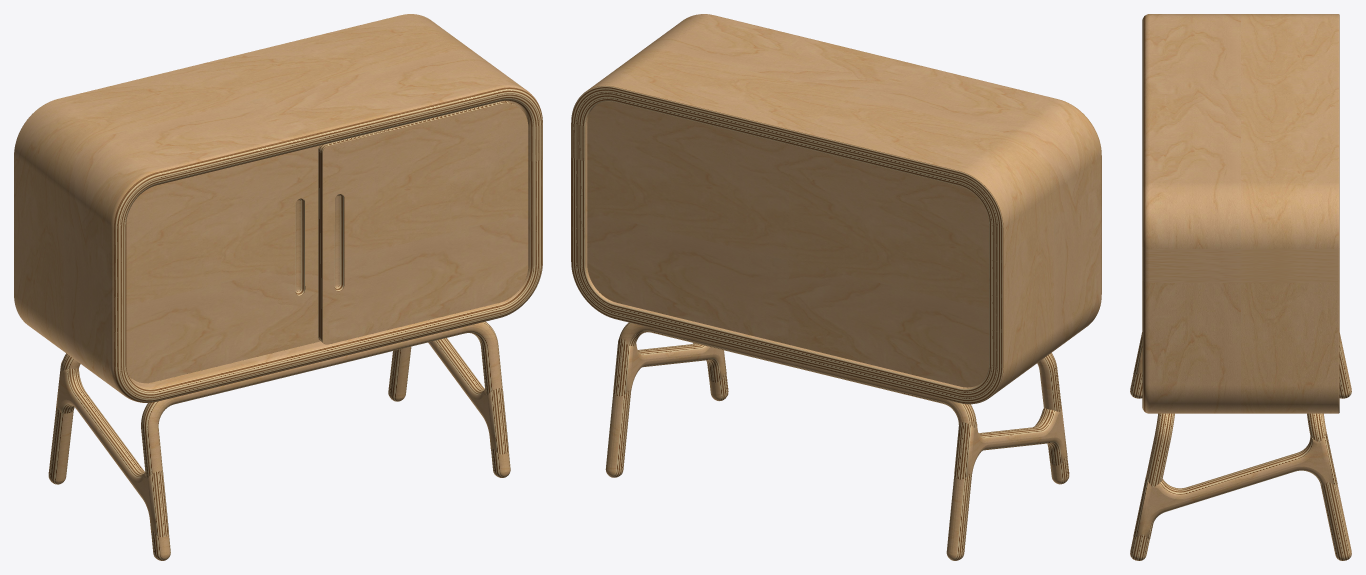
File: console.glb
3 views of the same model, side by side, from view 1: azimuth 30°, elevation 25°; view 2: azimuth 150°, elevation 25°; view 3: azimuth 270°, elevation 25° (orthographic). The views are drawn at different scales.
Visible parts, largest first — view 1: Console: shell_bent_lamination, Console: door_right_front, Console: door_left_rear, Console: base_front_frame, Console: base_end_frame_L, Console: base_end_frame_R, Console: base_back_frame; view 2: Console: back_panel, Console: shell_bent_lamination, Console: base_back_frame, Console: base_end_frame_L, Console: base_end_frame_R, Console: base_front_frame; view 3: Console: shell_bent_lamination, Console: base_end_frame_R, Console: base_back_frame, Console: base_front_frame.
Part boxes in pixels (x1=…): Console: shell_bent_lamination: x1=14, y1=14, x2=542, y2=402; Console: door_right_front: x1=318, y1=101, x2=528, y2=344; Console: door_left_rear: x1=126, y1=145, x2=320, y2=383; Console: base_front_frame: x1=141, y1=321, x2=510, y2=560; Console: base_end_frame_L: x1=56, y1=361, x2=168, y2=537; Console: base_end_frame_R: x1=428, y1=338, x2=508, y2=454; Console: base_back_frame: x1=48, y1=346, x2=411, y2=484; Console: back_panel: x1=587, y1=101, x2=989, y2=387; Console: shell_bent_lamination: x1=571, y1=14, x2=1101, y2=404; Console: base_back_frame: x1=605, y1=322, x2=976, y2=560; Console: base_end_frame_L: x1=954, y1=406, x2=1067, y2=479; Console: base_end_frame_R: x1=613, y1=338, x2=726, y2=396; Console: base_front_frame: x1=709, y1=353, x2=1069, y2=484; Console: shell_bent_lamination: x1=1142, y1=14, x2=1339, y2=413; Console: base_end_frame_R: x1=1133, y1=431, x2=1337, y2=539; Console: base_back_frame: x1=1307, y1=333, x2=1351, y2=560; Console: base_front_frame: x1=1130, y1=372, x2=1174, y2=560.
Size of the model in its own units: 1.07 by 0.9145 by 0.4853.
2 materials, 2 textured.
